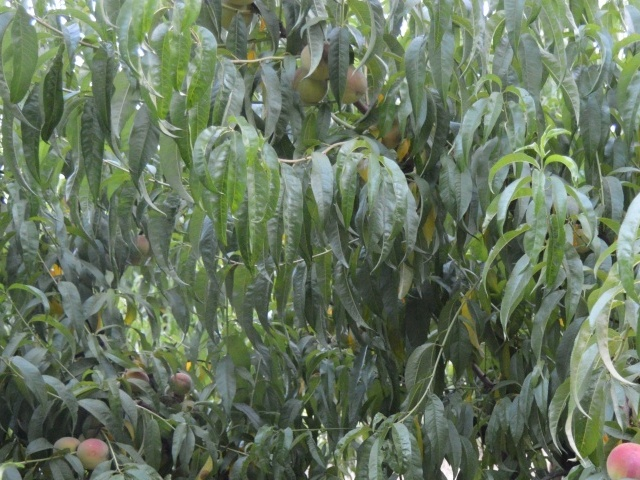peach: (296, 39, 343, 81), (331, 64, 370, 106), (602, 436, 640, 478), (293, 70, 336, 106), (73, 436, 112, 470), (51, 432, 85, 465), (168, 371, 198, 399), (123, 365, 150, 390)
